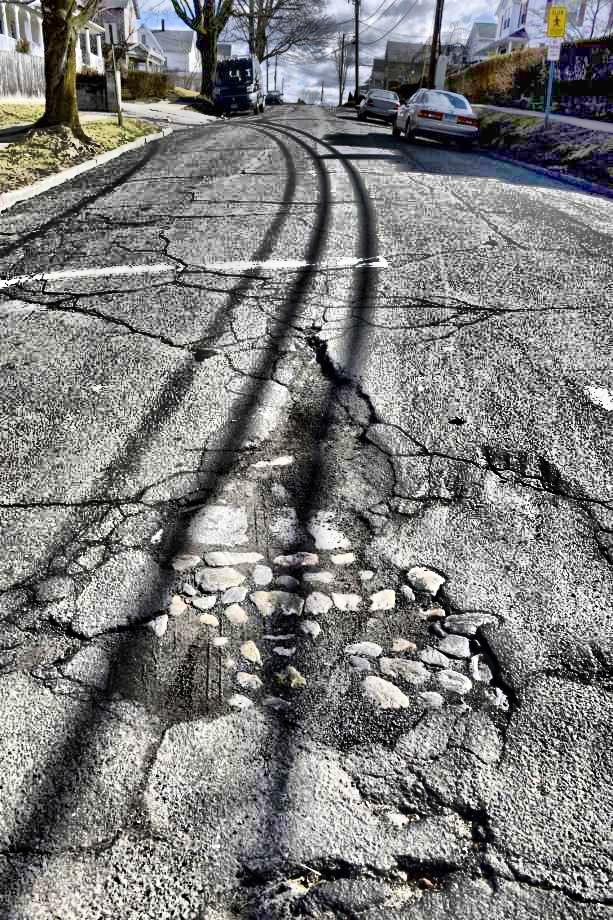pothole: (149, 575, 483, 734), (258, 329, 399, 514)
